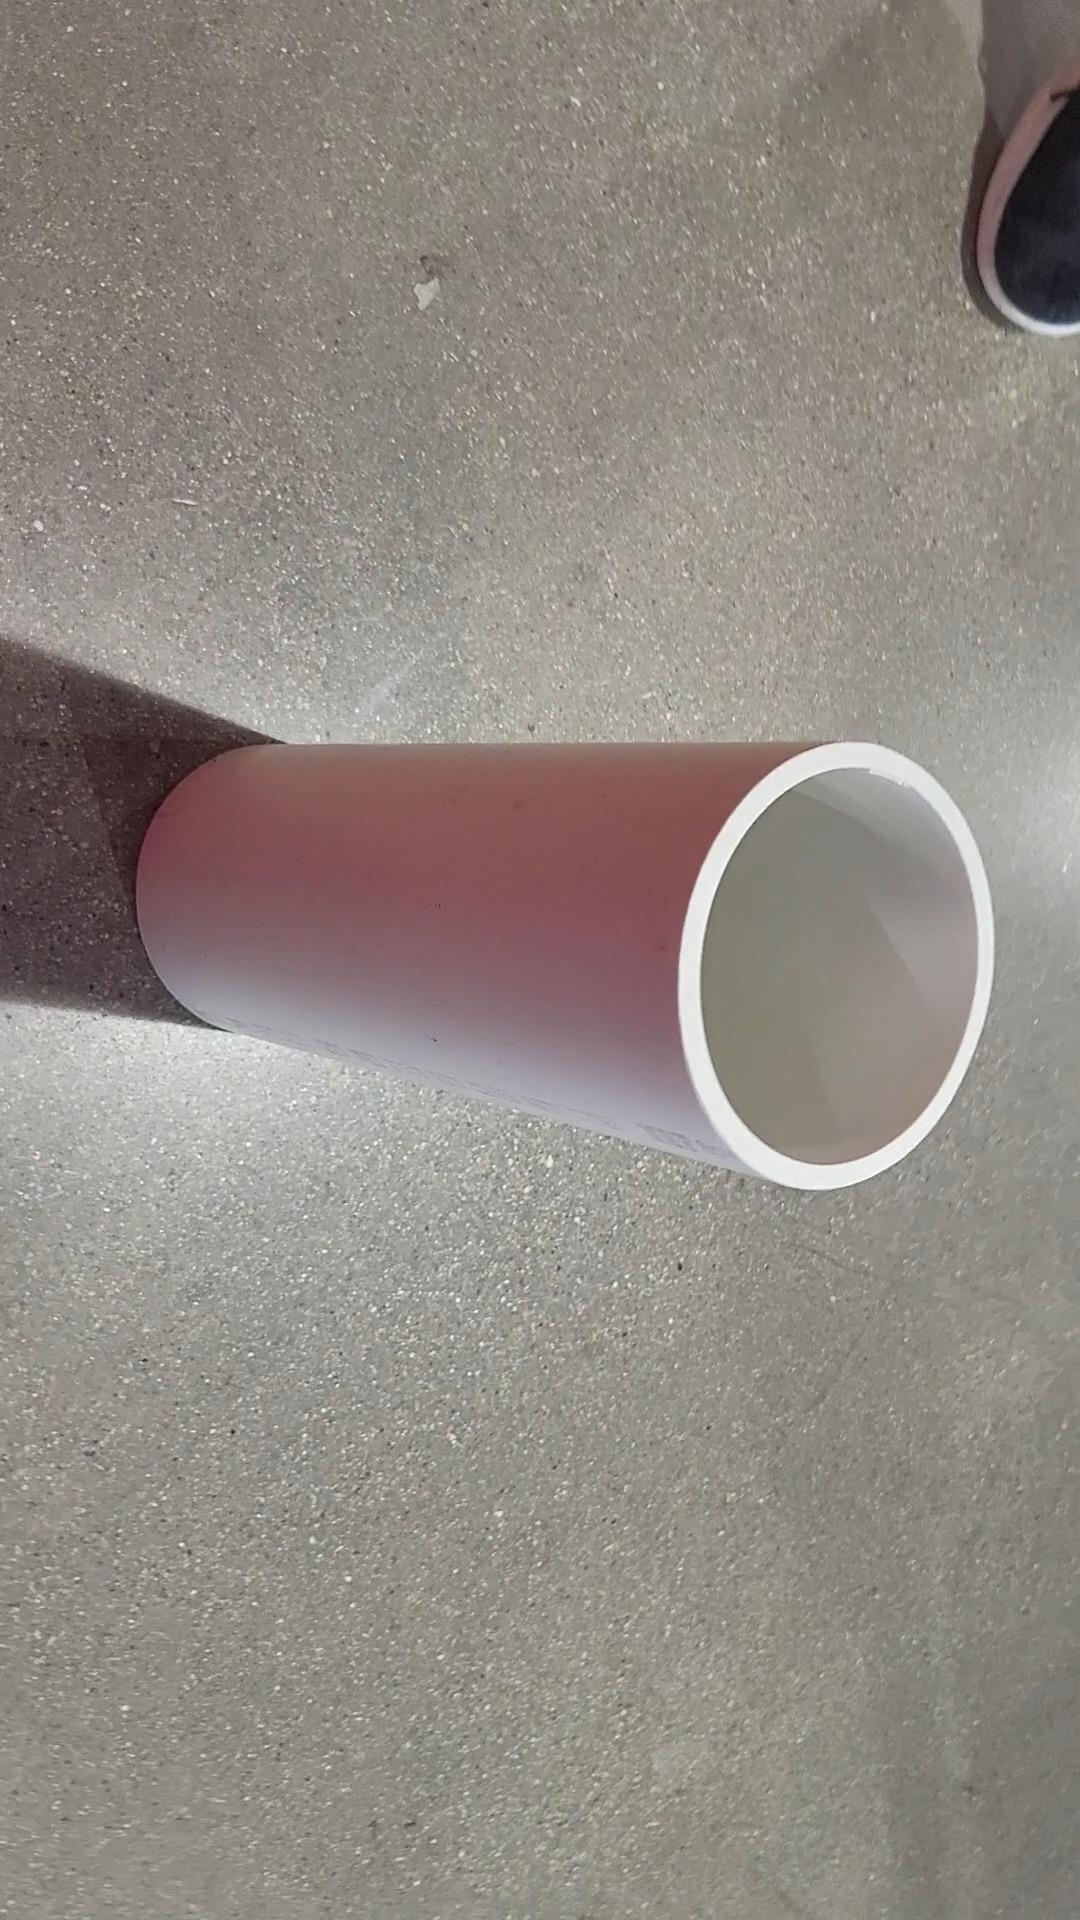coral: (138, 738, 995, 1185)
